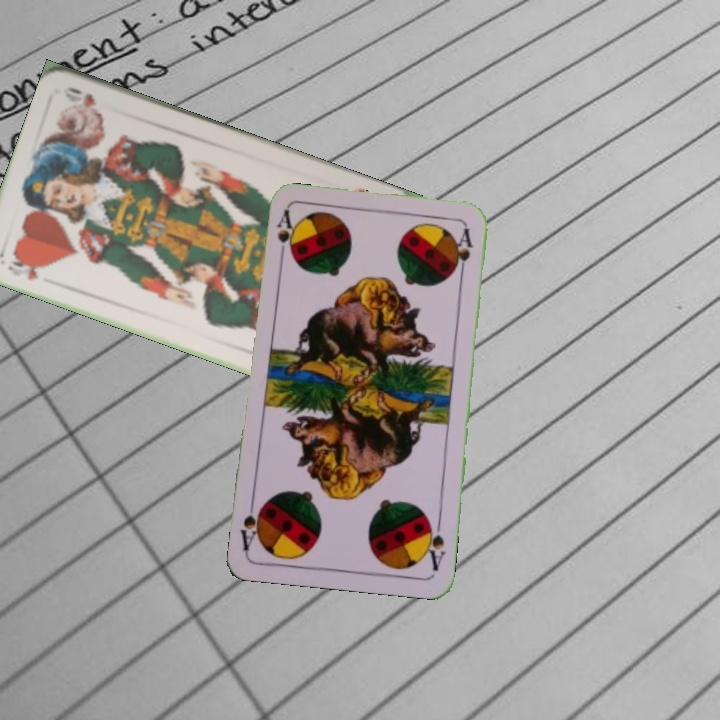HO: (4, 253, 47, 283)
SA: (421, 513, 448, 574), (273, 207, 295, 266)
